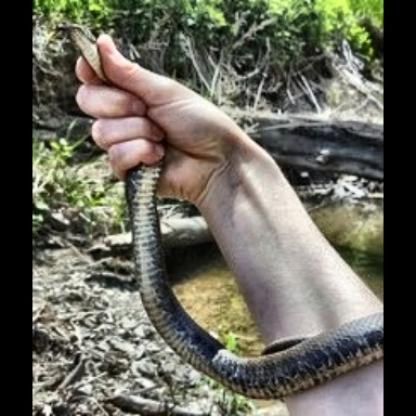Snake: (40, 11, 389, 415)
